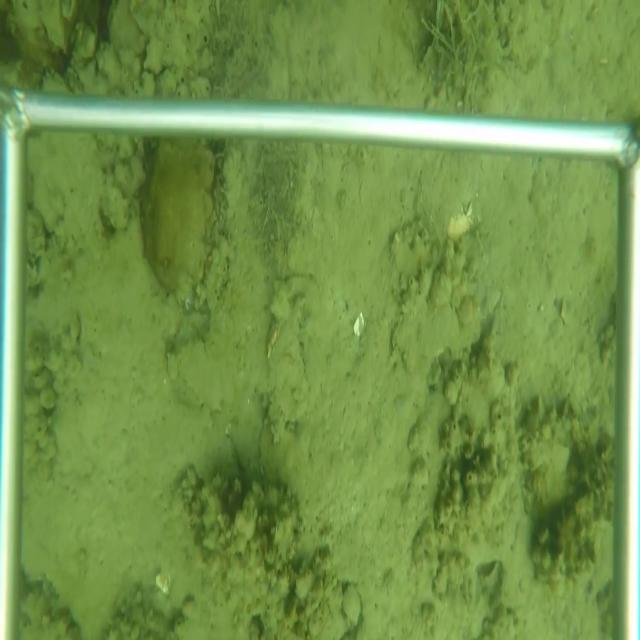Oyster-Closed: (137, 142, 216, 306)
Oyster-Indeterminate: (267, 302, 313, 428), (269, 274, 326, 324)
